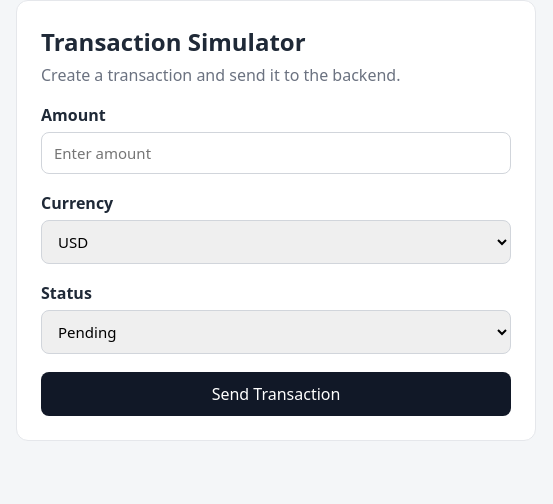
AddTransactionPage › should not send transaction when amount is empty
Click the button "Send Transaction". click: click(276, 394)
box: [41, 372, 511, 416]
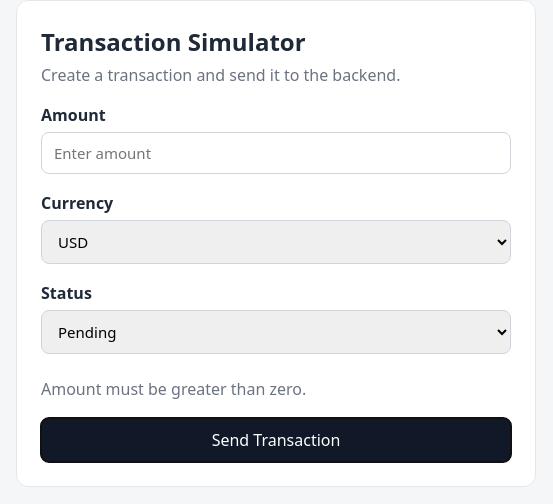
Check: the text "Amount must be greater than zero." is shown, box [41, 378, 306, 400]
